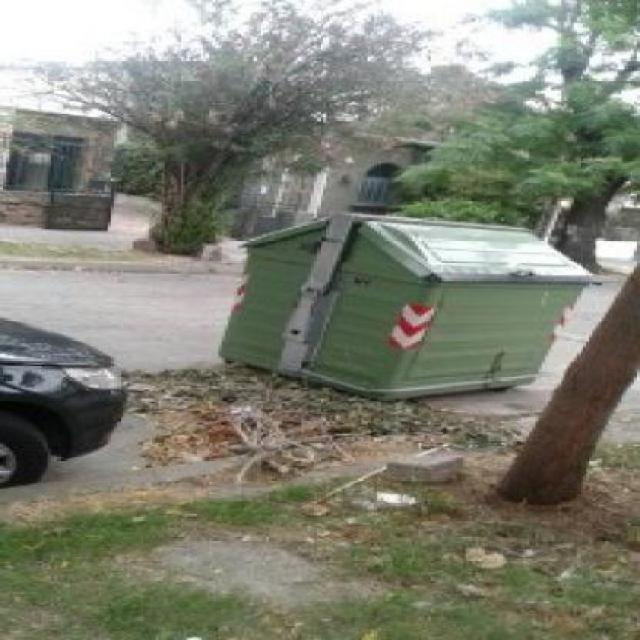garbage: (123, 363, 519, 459)
